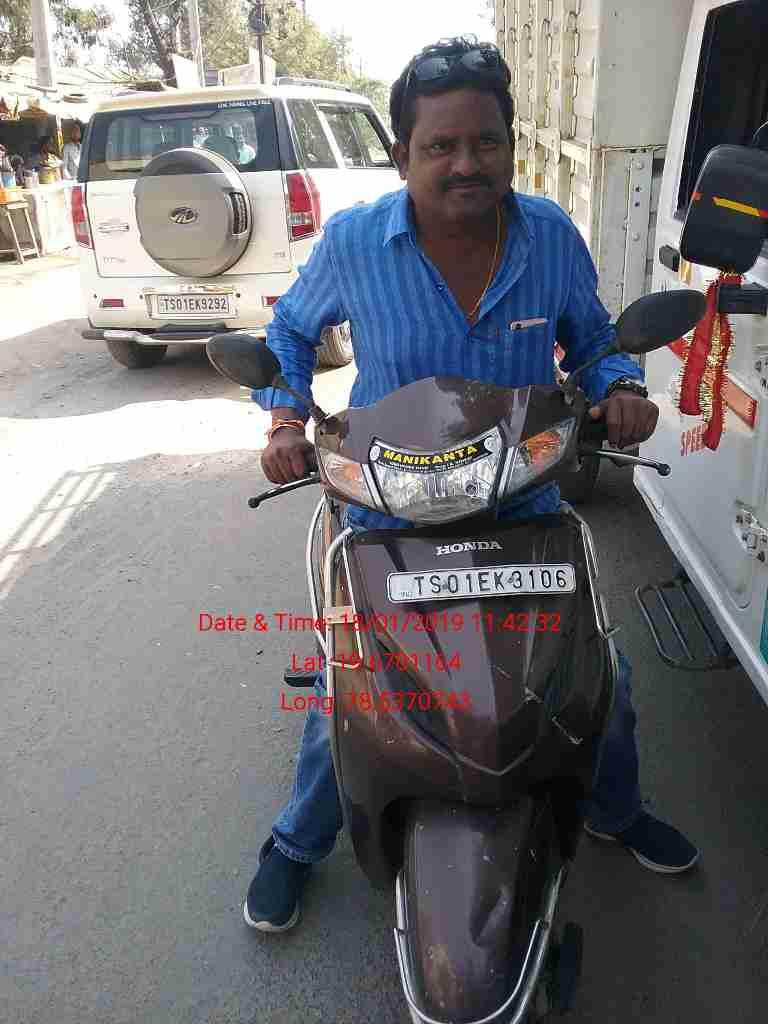plate: (386, 563, 580, 600), (149, 291, 232, 313)
